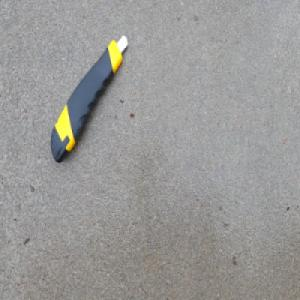Cutter: (49, 31, 130, 164)
